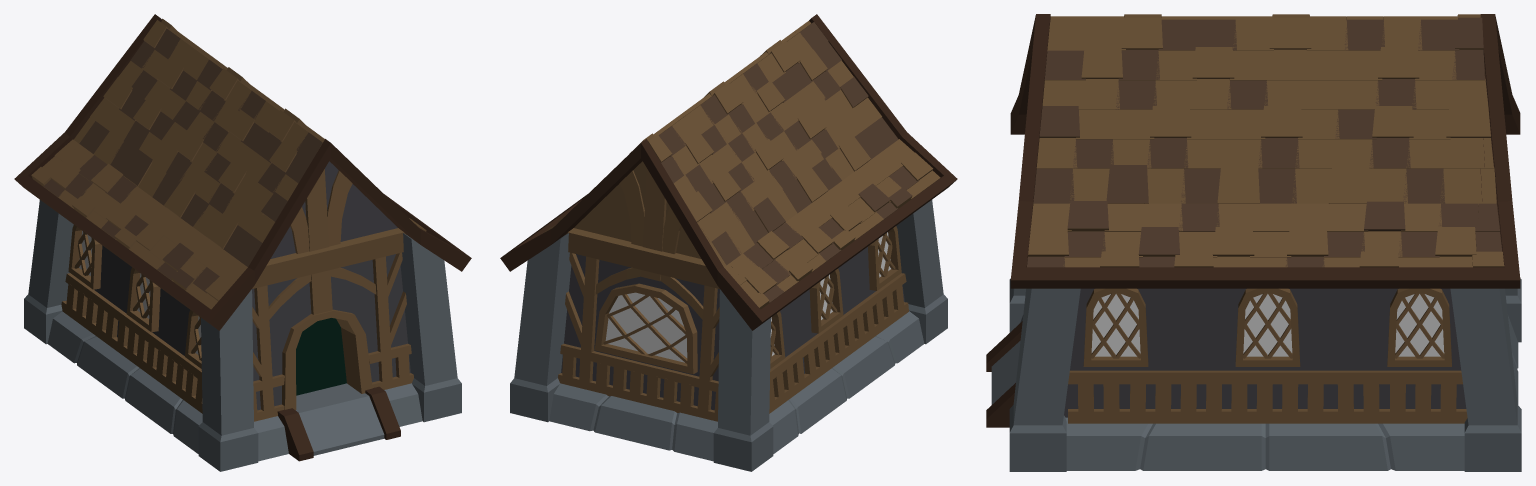
Rendered from SM_Hous_16_B.gltf.
3 views of the same model, side by side, from view 1: azimuth 30°, elevation 25°; view 2: azimuth 150°, elevation 25°; view 3: azimuth 270°, elevation 25° (orthographic). The views are drawn at different scales.
Parts seen in each view (by area): view 1: SM_Hous_16_B; view 2: SM_Hous_16_B; view 3: SM_Hous_16_B.
Part boxes in pixels (left/top/right/bottom): SM_Hous_16_B: left=14, top=14, right=471, bottom=471; SM_Hous_16_B: left=500, top=14, right=957, bottom=471; SM_Hous_16_B: left=986, top=14, right=1521, bottom=471.
Bounding box in the file's own units: 7.99 × 8.51 × 10.83.
